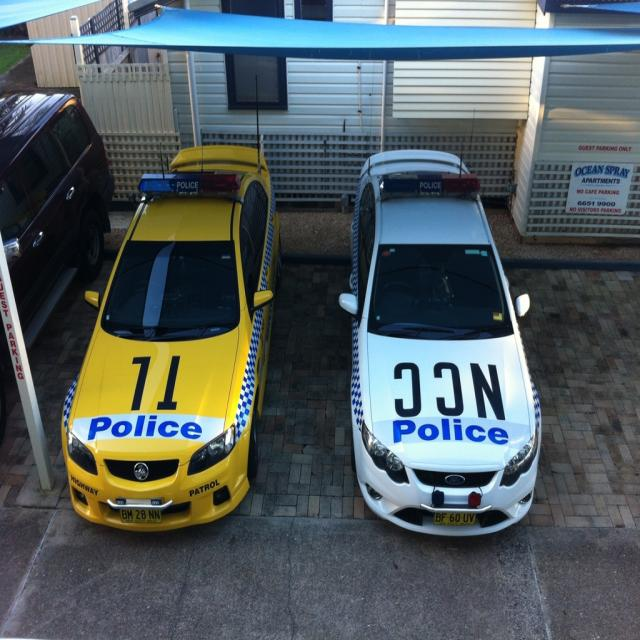car: (60, 75, 279, 530), (338, 148, 540, 535)
